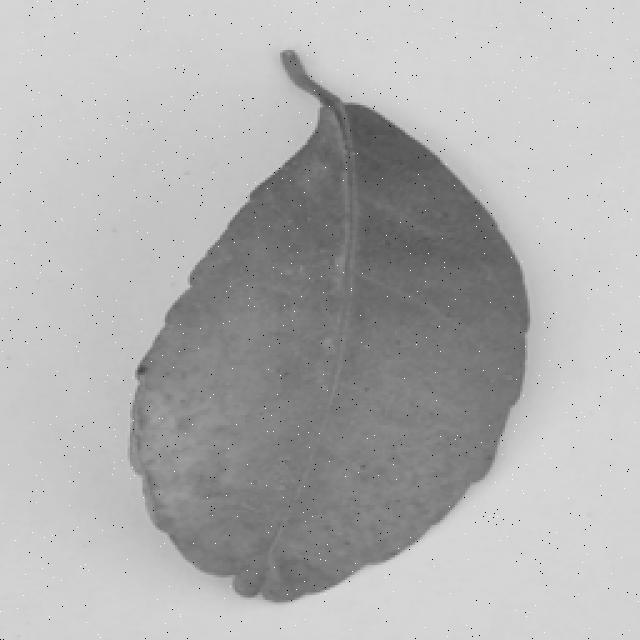greening: (106, 36, 546, 612)
